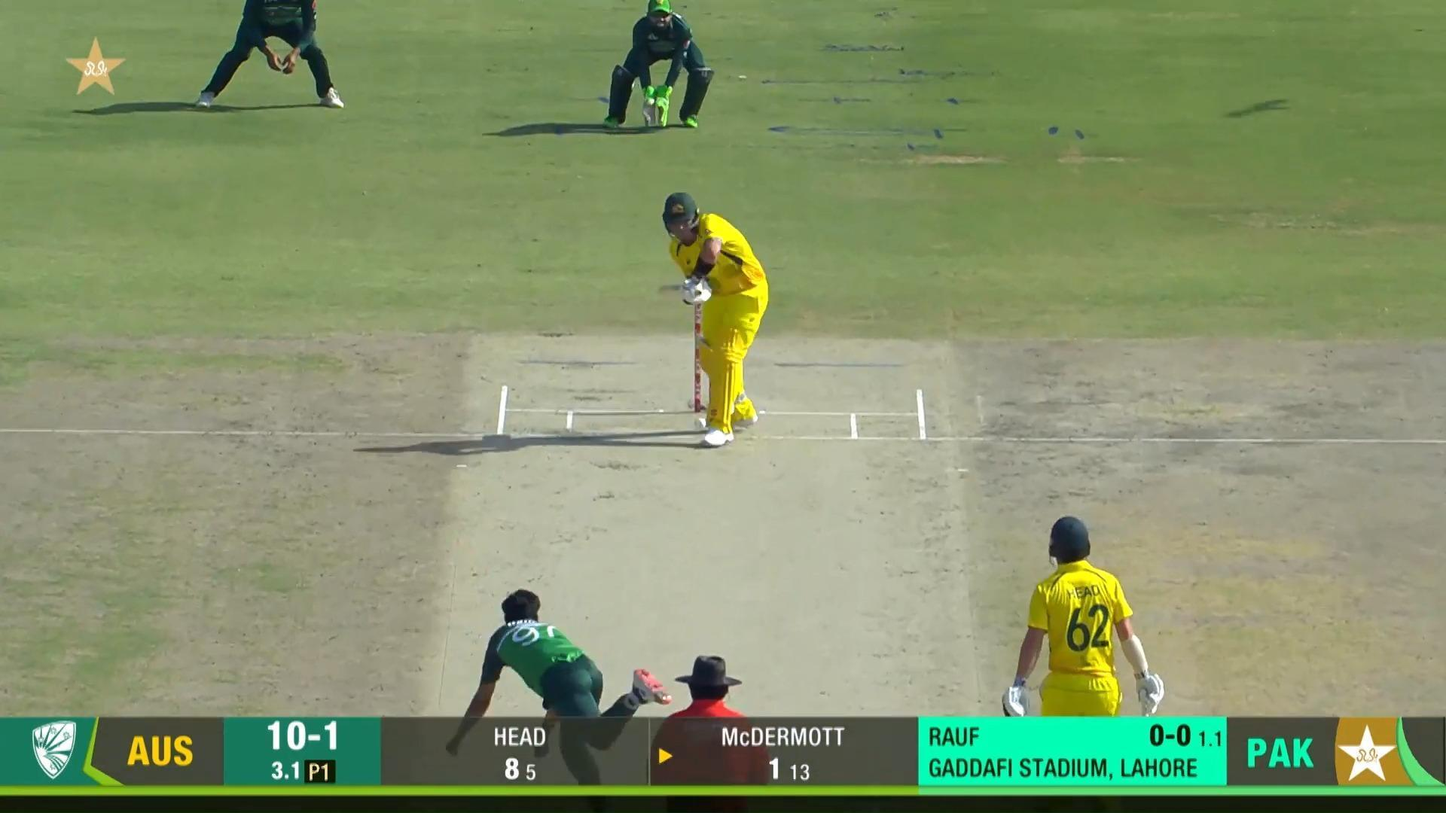BM 1: (658, 191, 771, 449)
BO: (464, 588, 671, 717)
